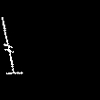treble_crochet: (2, 17, 21, 73)
